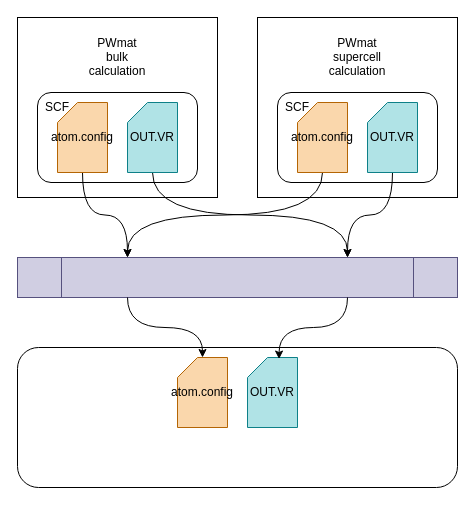
Image size: 475x505. Some labels were removed from this diagram. The box of each missing label's shape, as (x1, y1, x2, y2) in pixels:
potpatch -i potpatch.input: (16, 256, 458, 298)
PWmat suuuupercell NONSCF FSM calculation: (16, 346, 458, 488)
